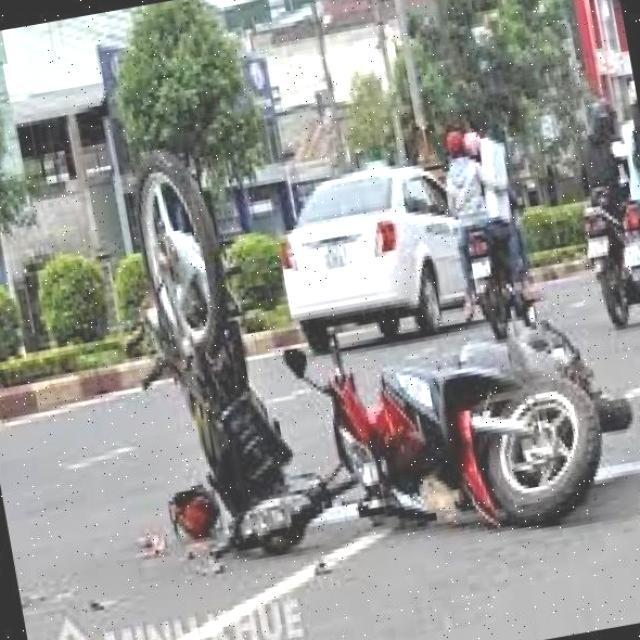accident: (70, 75, 640, 632)
